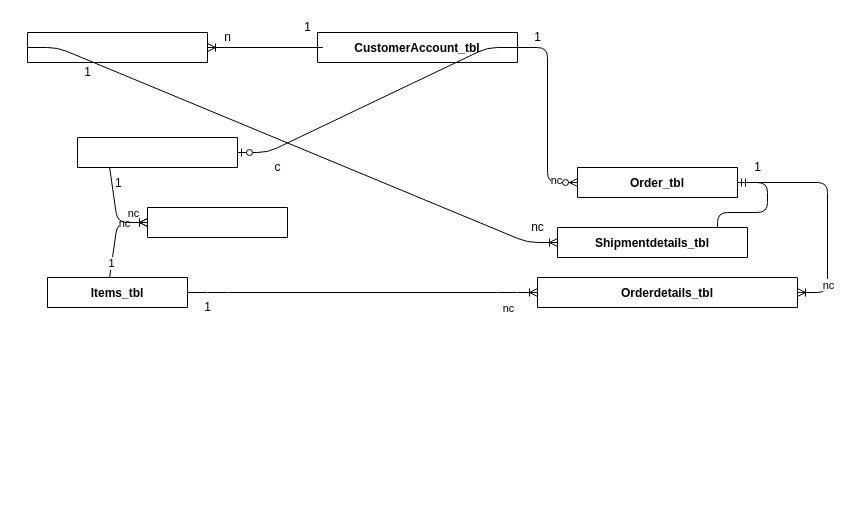
Image size: 855x505. Some labels were removed from this diagram. The shapes that lost their labels are listed below. From the top down, each one's centre as x and y in pixels, then its label:
At pixel 117 47: "Address_tbl".
At pixel 157 152: "Wishlist_tbl".
At pixel 217 222: "ItemsperWishlist_tbl".
